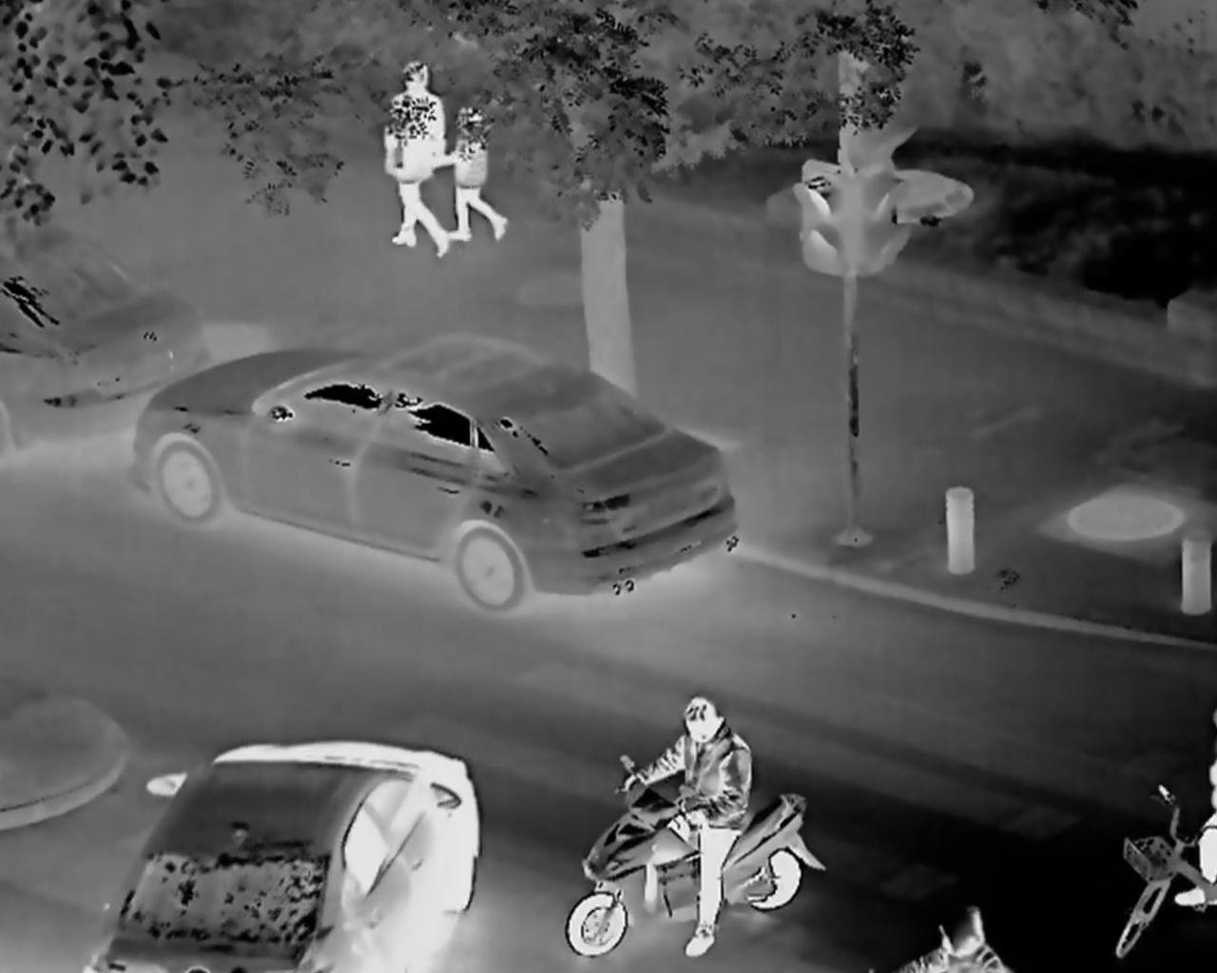person: (647, 691, 747, 965), (382, 55, 448, 255), (452, 102, 507, 250), (1183, 712, 1216, 914)
